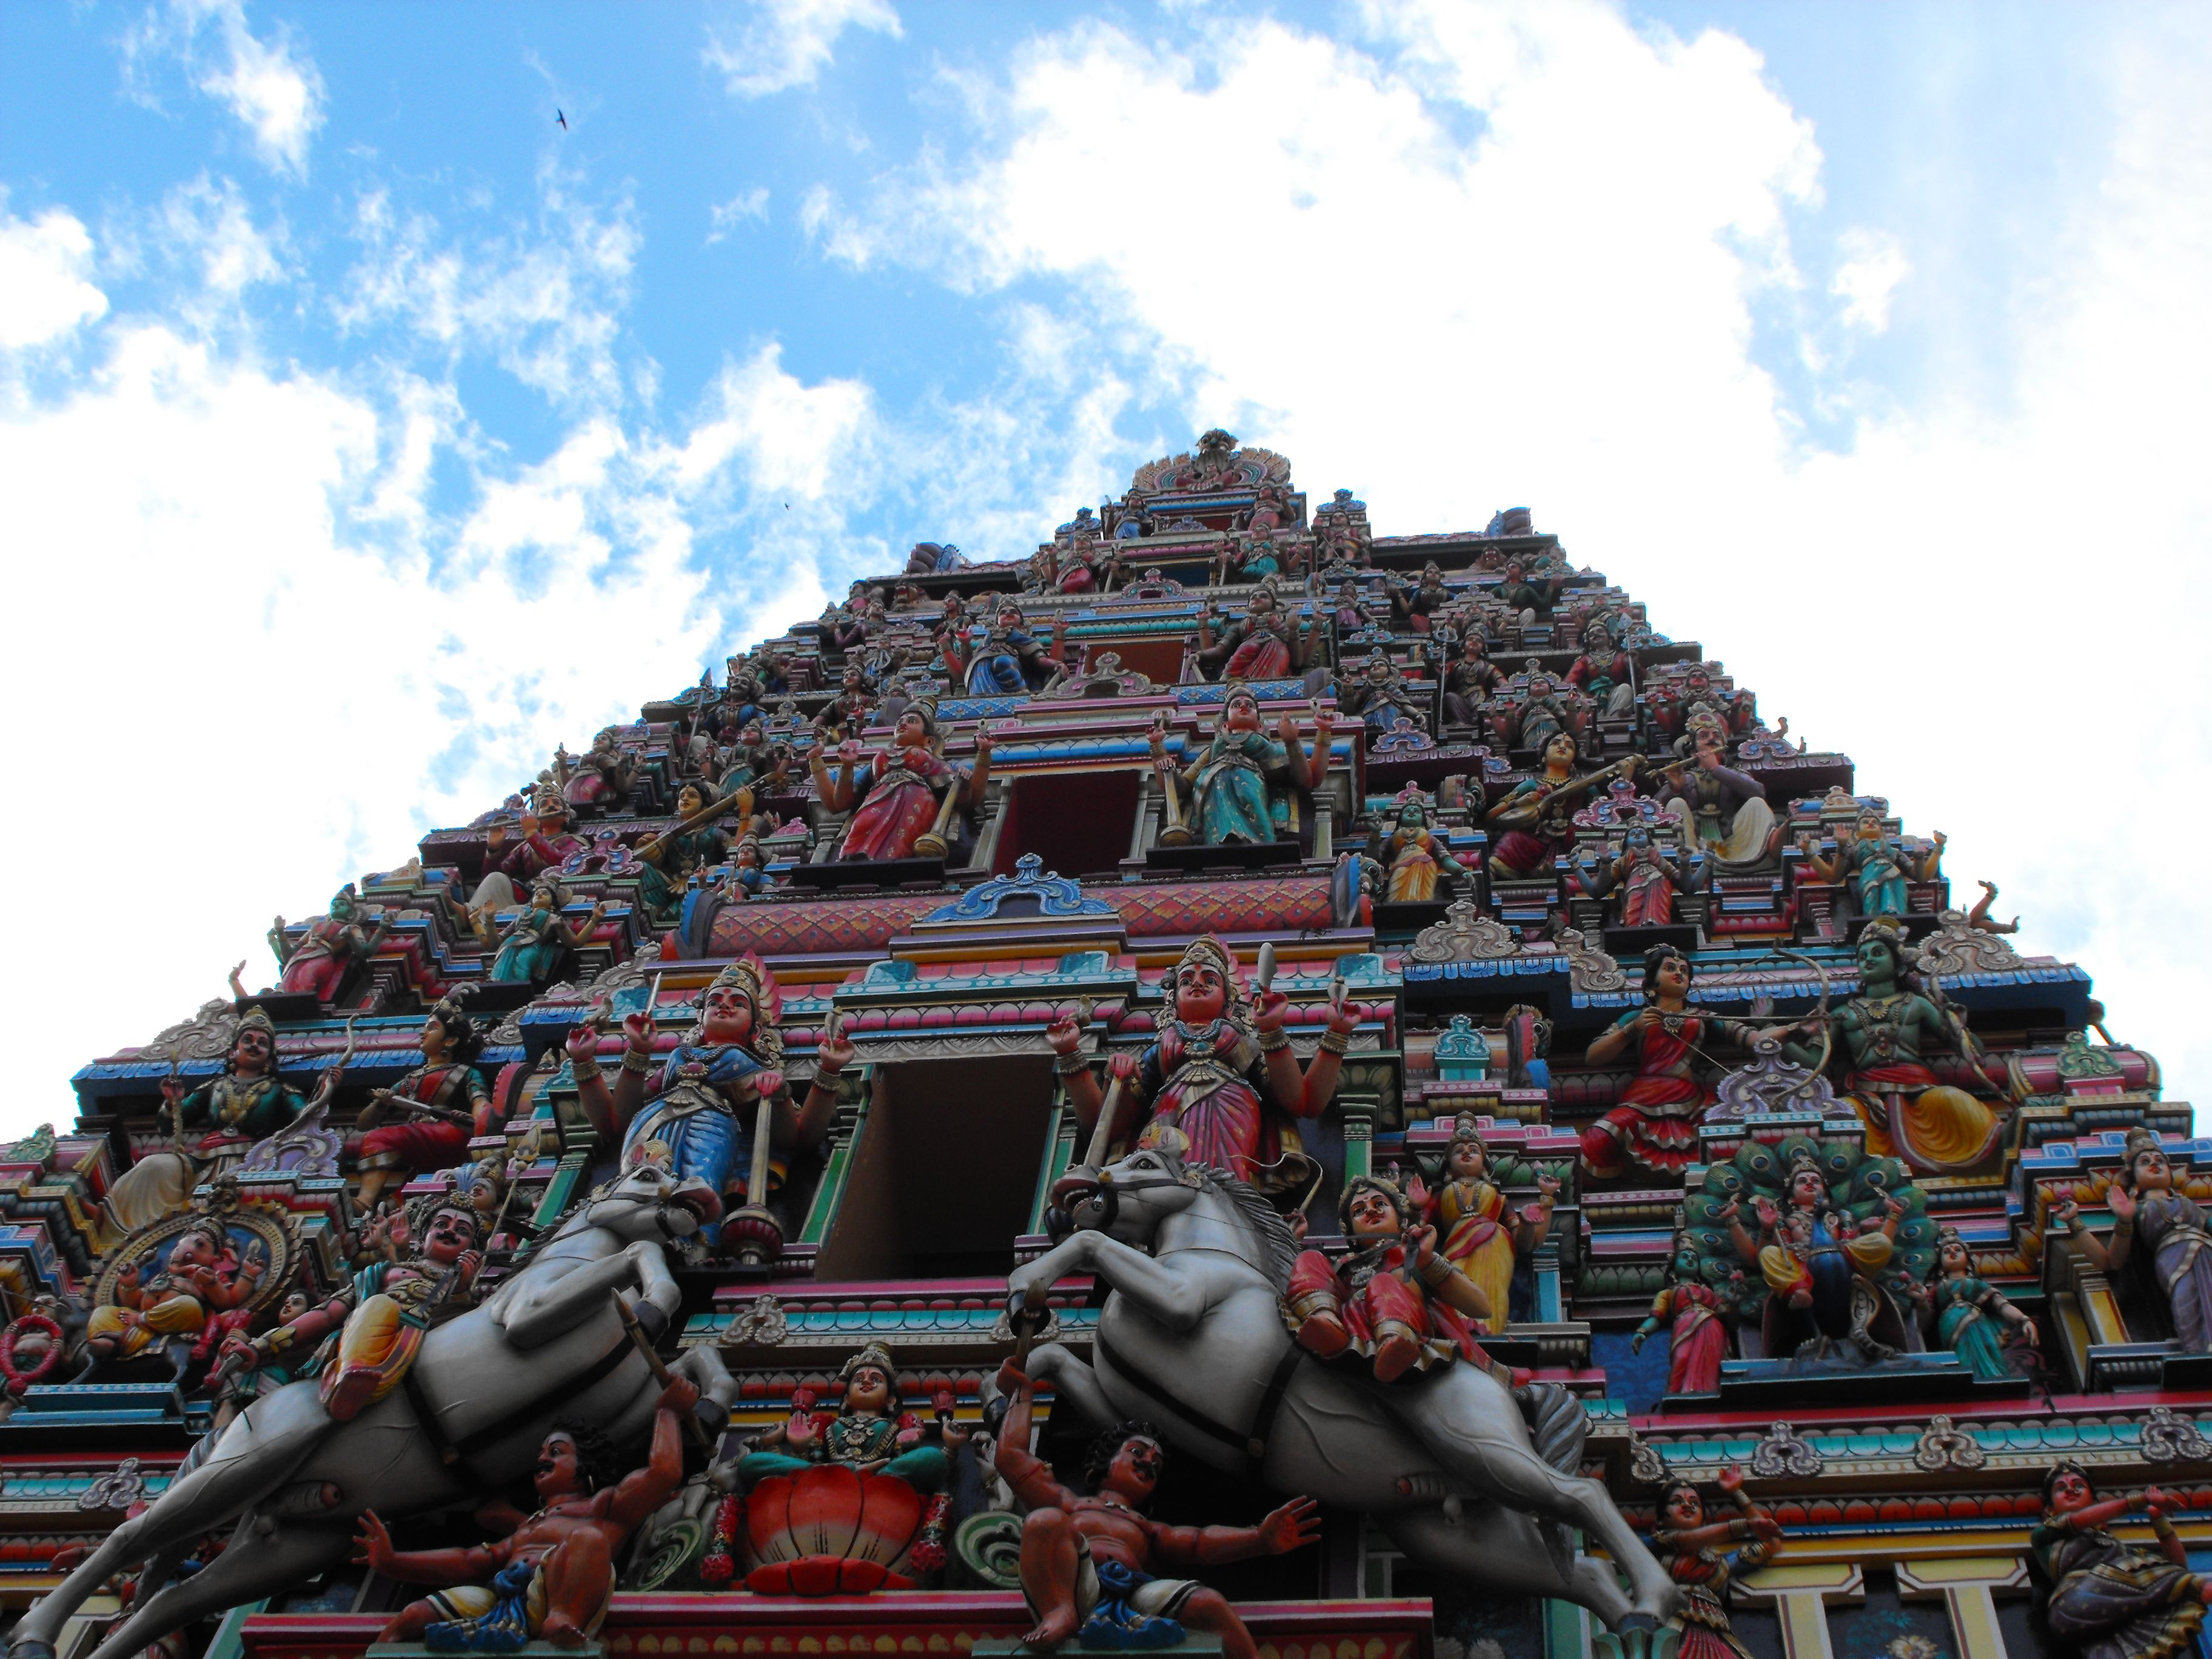Hindu Temple: (150, 413, 2179, 1622)
